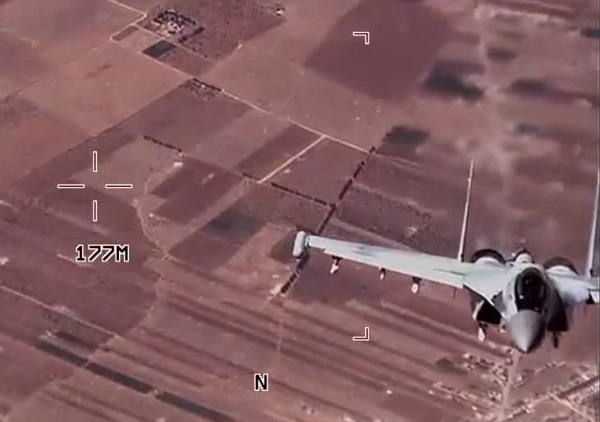Su35: (285, 152, 600, 358)
